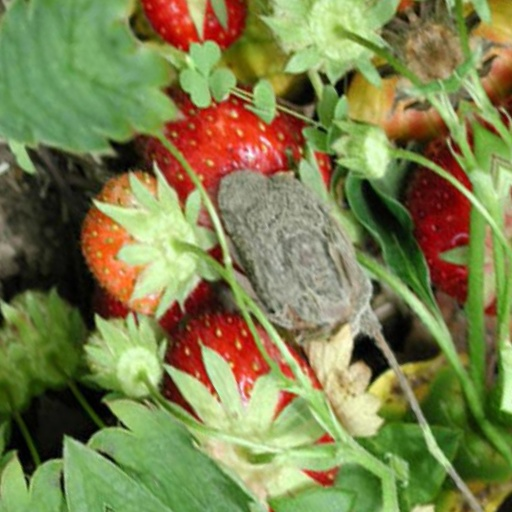Gray Mold: (165, 129, 280, 342)
